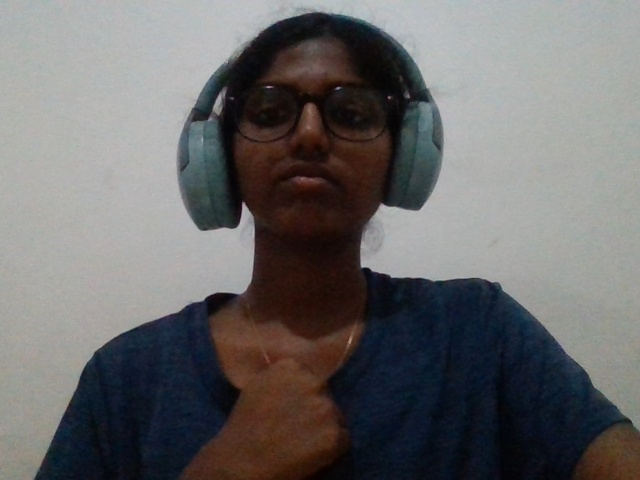Sorry: (161, 337, 351, 480)
